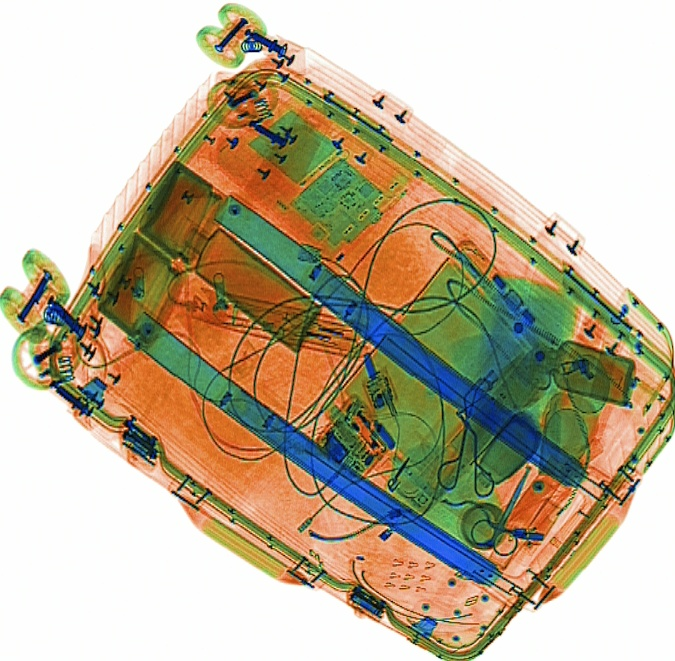scissors: (470, 465, 532, 559)
